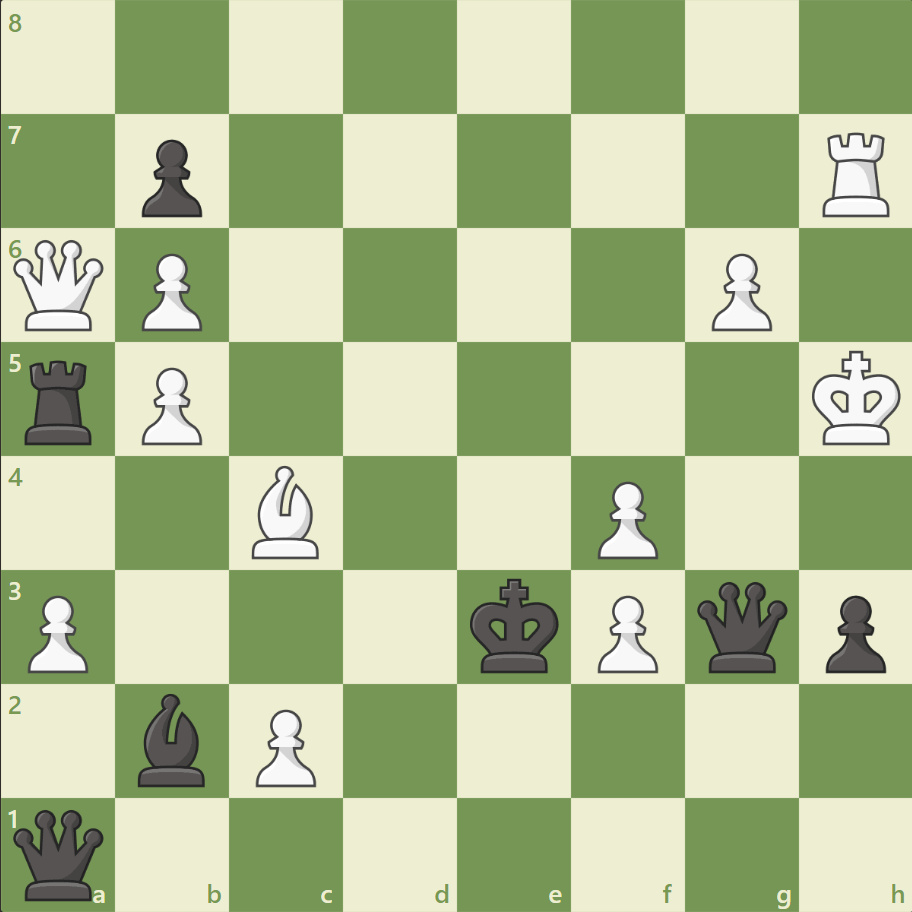B: (244, 460, 328, 563)
K: (806, 344, 906, 452)
P: (133, 246, 208, 337), (701, 246, 776, 337), (133, 359, 208, 450), (20, 586, 95, 677), (247, 700, 322, 791), (588, 473, 662, 564), (588, 586, 662, 677)
Q: (10, 236, 109, 335)
R: (814, 125, 897, 222)
b: (131, 687, 215, 790)
k: (465, 571, 565, 679)
p: (133, 132, 208, 223), (815, 586, 889, 677)
q: (691, 576, 790, 676), (10, 804, 109, 903)
r: (19, 352, 102, 449)
